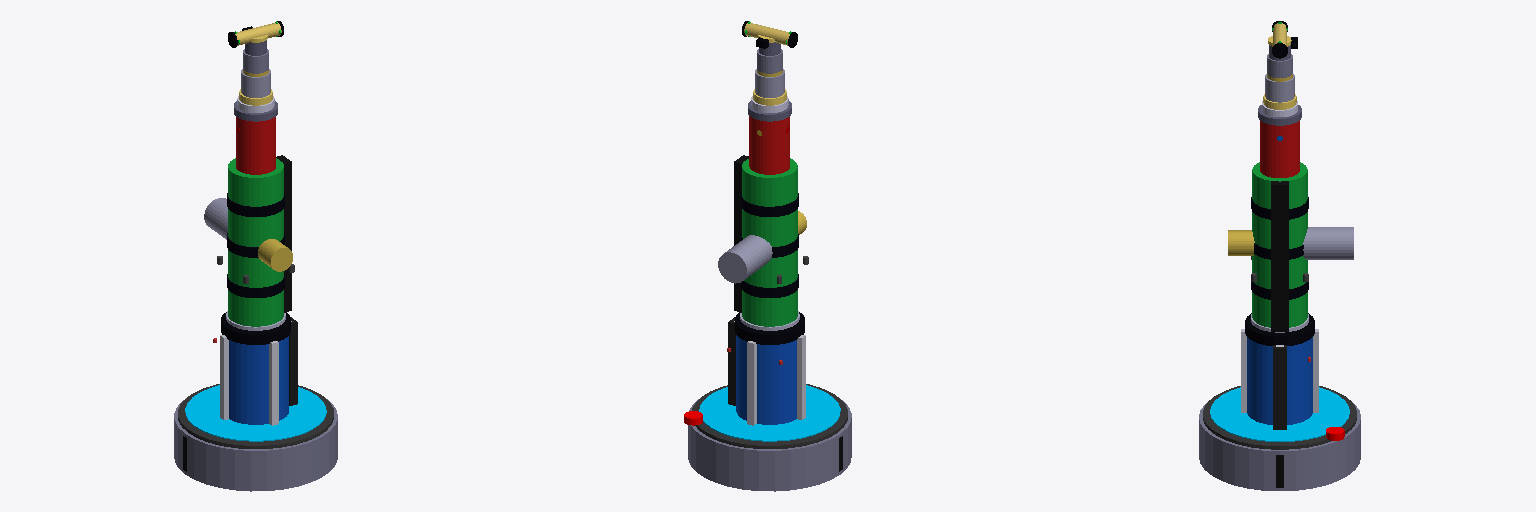
--- Facts derived from the render (not from the file) ---
3 views of the same robot in one strip: view 1: azimuth 30°, elevation 25°; view 2: azimuth 150°, elevation 25°; view 3: azimuth 270°, elevation 25° (orthographic).
Model enhanced_robot_arm with 10 links and 9 joints (5 revolute, 1 continuous, 2 prismatic, 1 fixed), rooted at base_link, posed every joint at zero.
Visible links, largest first — view 1: base_link, upper_arm_link, shoulder_link, forearm_link, wrist_roll_link; view 2: base_link, upper_arm_link, shoulder_link, forearm_link, wrist_roll_link; view 3: base_link, upper_arm_link, shoulder_link, forearm_link, wrist_roll_link.
Link boxes in pixels (x1=…): base_link: x1=174, y1=384, x2=337, y2=491; upper_arm_link: x1=204, y1=155, x2=294, y2=326; shoulder_link: x1=213, y1=311, x2=297, y2=425; forearm_link: x1=234, y1=89, x2=277, y2=174; wrist_roll_link: x1=241, y1=69, x2=270, y2=97; base_link: x1=684, y1=384, x2=851, y2=491; upper_arm_link: x1=718, y1=155, x2=808, y2=326; shoulder_link: x1=727, y1=311, x2=805, y2=425; forearm_link: x1=748, y1=89, x2=791, y2=174; wrist_roll_link: x1=755, y1=69, x2=784, y2=97; base_link: x1=1199, y1=386, x2=1360, y2=490; upper_arm_link: x1=1228, y1=162, x2=1353, y2=331; shoulder_link: x1=1241, y1=313, x2=1318, y2=429; forearm_link: x1=1258, y1=94, x2=1301, y2=177; wrist_roll_link: x1=1265, y1=74, x2=1294, y2=102.
Bounding box of the posed robot: 0.44 × 0.44 × 1.27 m (x, y, z).
Geometry: primitives only (box / cylinder / sphere), no mesh files.

The robot description file, URDF, robot "enhanced_robot_arm":
<?xml version="1.0"?>
<robot name="enhanced_robot_arm">

  <!-- Advanced Research Platform Base -->
  <link name="base_link">
    <!-- Primary base platform with integrated cooling -->
    <visual>
      <origin xyz="0 0 0.06" rpy="0 0 0"/>
      <geometry>
        <cylinder radius="0.22" length="0.12"/>
      </geometry>
      <material name="base_aerospace_titanium">
        <color rgba="0.5 0.5 0.6 1.0"/>
      </material>
    </visual>
    
    <!-- Precision-machined anti-slip surface -->
    <visual>
      <origin xyz="0 0 0.125" rpy="0 0 0"/>
      <geometry>
        <cylinder radius="0.21" length="0.01"/>
      </geometry>
      <material name="grip_diamond_plate">
        <color rgba="0.25 0.25 0.25 1.0"/>
      </material>
    </visual>
    
    <!-- High-strength mounting bolts (8-point pattern) -->
    <visual>
      <origin xyz="0.15 0 0.125" rpy="0 0 0"/>
      <geometry>
        <cylinder radius="0.01" length="0.015"/>
      </geometry>
      <material name="bolt_titanium">
        <color rgba="0.6 0.6 0.7 1.0"/>
      </material>
    </visual>
    
    <visual>
      <origin xyz="0.106 0.106 0.125" rpy="0 0 0"/>
      <geometry>
        <cylinder radius="0.01" length="0.015"/>
      </geometry>
      <material name="bolt_titanium">
        <color rgba="0.6 0.6 0.7 1.0"/>
      </material>
    </visual>
    
    <visual>
      <origin xyz="0 0.15 0.125" rpy="0 0 0"/>
      <geometry>
        <cylinder radius="0.01" length="0.015"/>
      </geometry>
      <material name="bolt_titanium">
        <color rgba="0.6 0.6 0.7 1.0"/>
      </material>
    </visual>
    
    <visual>
      <origin xyz="-0.106 0.106 0.125" rpy="0 0 0"/>
      <geometry>
        <cylinder radius="0.01" length="0.015"/>
      </geometry>
      <material name="bolt_titanium">
        <color rgba="0.6 0.6 0.7 1.0"/>
      </material>
    </visual>
    
    <visual>
      <origin xyz="-0.15 0 0.125" rpy="0 0 0"/>
      <geometry>
        <cylinder radius="0.01" length="0.015"/>
      </geometry>
      <material name="bolt_titanium">
        <color rgba="0.6 0.6 0.7 1.0"/>
      </material>
    </visual>
    
    <visual>
      <origin xyz="-0.106 -0.106 0.125" rpy="0 0 0"/>
      <geometry>
        <cylinder radius="0.01" length="0.015"/>
      </geometry>
      <material name="bolt_titanium">
        <color rgba="0.6 0.6 0.7 1.0"/>
      </material>
    </visual>
    
    <visual>
      <origin xyz="0 -0.15 0.125" rpy="0 0 0"/>
      <geometry>
        <cylinder radius="0.01" length="0.015"/>
      </geometry>
      <material name="bolt_titanium">
        <color rgba="0.6 0.6 0.7 1.0"/>
      </material>
    </visual>
    
    <visual>
      <origin xyz="0.106 -0.106 0.125" rpy="0 0 0"/>
      <geometry>
        <cylinder radius="0.01" length="0.015"/>
      </geometry>
      <material name="bolt_titanium">
        <color rgba="0.6 0.6 0.7 1.0"/>
      </material>
    </visual>
    
    <!-- Advanced LED status system -->
    <visual>
      <origin xyz="0 0 0.135" rpy="0 0 0"/>
      <geometry>
        <cylinder radius="0.19" length="0.003"/>
      </geometry>
      <material name="led_ring_active">
        <color rgba="0.0 0.8 1.0 1.0"/>
      </material>
    </visual>
    
    <!-- Cooling system vents -->
    <visual>
      <origin xyz="0.18 0 0.06" rpy="0 0 0"/>
      <geometry>
        <box size="0.08 0.02 0.1"/>
      </geometry>
      <material name="vent_graphite">
        <color rgba="0.1 0.1 0.1 1.0"/>
      </material>
    </visual>
    
    <visual>
      <origin xyz="-0.18 0 0.06" rpy="0 0 0"/>
      <geometry>
        <box size="0.08 0.02 0.1"/>
      </geometry>
      <material name="vent_graphite">
        <color rgba="0.1 0.1 0.1 1.0"/>
      </material>
    </visual>
    
    <!-- Integrated power distribution -->
    <visual>
      <origin xyz="0 0.18 0.06" rpy="0 0 0"/>
      <geometry>
        <box size="0.12 0.06 0.08"/>
      </geometry>
      <material name="power_distribution">
        <color rgba="0.2 0.2 0.3 1.0"/>
      </material>
    </visual>
    
    <!-- Emergency stop integration -->
    <visual>
      <origin xyz="0.15 0.15 0.14" rpy="0 0 0"/>
      <geometry>
        <cylinder radius="0.025" length="0.02"/>
      </geometry>
      <material name="emergency_stop">
        <color rgba="1.0 0.0 0.0 1.0"/>
      </material>
    </visual>
    
    <collision>
      <origin xyz="0 0 0.06" rpy="0 0 0"/>
      <geometry>
        <cylinder radius="0.22" length="0.12"/>
      </geometry>
    </collision>
    <inertial>
      <origin xyz="0 0 0.06" rpy="0 0 0"/>
      <mass value="15.0"/>
      <inertia ixx="0.2" ixy="0" ixz="0" iyy="0.2" iyz="0" izz="0.35"/>
    </inertial>
  </link>

  <!-- Advanced Shoulder Assembly -->
  <link name="shoulder_link">
    <!-- Primary shoulder structure -->
    <visual>
      <origin xyz="0 0 0.125" rpy="0 0 0"/>
      <geometry>
        <cylinder radius="0.09" length="0.25"/>
      </geometry>
      <material name="arm_aerospace_blue">
        <color rgba="0.1 0.35 0.75 1.0"/>
      </material>
    </visual>
    
    <!-- Advanced cooling fins -->
    <visual>
      <origin xyz="0.095 0 0.125" rpy="0 1.57 0"/>
      <geometry>
        <box size="0.25 0.02 0.02"/>
      </geometry>
      <material name="cooling_aluminum">
        <color rgba="0.8 0.8 0.85 1.0"/>
      </material>
    </visual>
    
    <visual>
      <origin xyz="-0.095 0 0.125" rpy="0 1.57 0"/>
      <geometry>
        <box size="0.25 0.02 0.02"/>
      </geometry>
      <material name="cooling_aluminum">
        <color rgba="0.8 0.8 0.85 1.0"/>
      </material>
    </visual>
    
    <visual>
      <origin xyz="0 0.095 0.125" rpy="1.57 0 0"/>
      <geometry>
        <box size="0.02 0.25 0.02"/>
      </geometry>
      <material name="cooling_aluminum">
        <color rgba="0.8 0.8 0.85 1.0"/>
      </material>
    </visual>
    
    <visual>
      <origin xyz="0 -0.095 0.125" rpy="1.57 0 0"/>
      <geometry>
        <box size="0.02 0.25 0.02"/>
      </geometry>
      <material name="cooling_aluminum">
        <color rgba="0.8 0.8 0.85 1.0"/>
      </material>
    </visual>
    
    <!-- High-precision servo motor -->
    <visual>
      <origin xyz="0 0 0.26" rpy="0 0 0"/>
      <geometry>
        <cylinder radius="0.095" length="0.03"/>
      </geometry>
      <material name="servo_housing">
        <color rgba="0.05 0.05 0.08 1.0"/>
      </material>
    </visual>
    
    <!-- Integrated torque sensor -->
    <visual>
      <origin xyz="0 0 0.285" rpy="0 0 0"/>
      <geometry>
        <cylinder radius="0.08" length="0.01"/>
      </geometry>
      <material name="torque_sensor">
        <color rgba="0.7 0.7 0.8 1.0"/>
      </material>
    </visual>
    
    <!-- Advanced cable management -->
    <visual>
      <origin xyz="0.105 0 0.125" rpy="0 0 0"/>
      <geometry>
        <box size="0.025 0.04 0.25"/>
      </geometry>
      <material name="cable_carrier_advanced">
        <color rgba="0.15 0.15 0.15 1.0"/>
      </material>
    </visual>
    
    <!-- Temperature sensors -->
    <visual>
      <origin xyz="0.08 0.08 0.2" rpy="0 0 0"/>
      <geometry>
        <cylinder radius="0.005" length="0.01"/>
      </geometry>
      <material name="temp_sensor">
        <color rgba="0.8 0.2 0.2 1.0"/>
      </material>
    </visual>
    
    <visual>
      <origin xyz="-0.08 0.08 0.2" rpy="0 0 0"/>
      <geometry>
        <cylinder radius="0.005" length="0.01"/>
      </geometry>
      <material name="temp_sensor">
        <color rgba="0.8 0.2 0.2 1.0"/>
      </material>
    </visual>
    
    <collision>
      <origin xyz="0 0 0.125" rpy="0 0 0"/>
      <geometry>
        <cylinder radius="0.09" length="0.25"/>
      </geometry>
    </collision>
    <inertial>
      <origin xyz="0 0 0.125" rpy="0 0 0"/>
      <mass value="8.5"/>
      <inertia ixx="0.08" ixy="0" ixz="0" iyy="0.08" iyz="0" izz="0.04"/>
    </inertial>
  </link>

  <!-- Extended Reach Upper Arm -->
  <link name="upper_arm_link">
    <!-- Main arm structure -->
    <visual>
      <origin xyz="0 0 0.22" rpy="0 0 0"/>
      <geometry>
        <cylinder radius="0.075" length="0.44"/>
      </geometry>
      <material name="arm_aerospace_green">
        <color rgba="0.1 0.65 0.25 1.0"/>
      </material>
    </visual>
    
    <!-- Carbon fiber reinforcement -->
    <visual>
      <origin xyz="0 0 0.1" rpy="0 0 0"/>
      <geometry>
        <cylinder radius="0.078" length="0.03"/>
      </geometry>
      <material name="carbon_fiber">
        <color rgba="0.05 0.05 0.1 1.0"/>
      </material>
    </visual>
    
    <visual>
      <origin xyz="0 0 0.22" rpy="0 0 0"/>
      <geometry>
        <cylinder radius="0.078" length="0.03"/>
      </geometry>
      <material name="carbon_fiber">
        <color rgba="0.05 0.05 0.1 1.0"/>
      </material>
    </visual>
    
    <visual>
      <origin xyz="0 0 0.34" rpy="0 0 0"/>
      <geometry>
        <cylinder radius="0.078" length="0.03"/>
      </geometry>
      <material name="carbon_fiber">
        <color rgba="0.05 0.05 0.1 1.0"/>
      </material>
    </visual>
    
    <!-- High-torque servo actuator -->
    <visual>
      <origin xyz="0 0.1 0.22" rpy="1.57 0 0"/>
      <geometry>
        <cylinder radius="0.045" length="0.2"/>
      </geometry>
      <material name="servo_titanium">
        <color rgba="0.6 0.6 0.7 1.0"/>
      </material>
    </visual>
    
    <!-- Advanced position encoder -->
    <visual>
      <origin xyz="0 -0.1 0.22" rpy="1.57 0 0"/>
      <geometry>
        <cylinder radius="0.035" length="0.08"/>
      </geometry>
      <material name="encoder_precision">
        <color rgba="0.8 0.7 0.3 1.0"/>
      </material>
    </visual>
    
    <!-- Adaptive cable carrier -->
    <visual>
      <origin xyz="0.085 0 0.22" rpy="0 0 0"/>
      <geometry>
        <box size="0.025 0.05 0.44"/>
      </geometry>
      <material name="cable_carrier_flex">
        <color rgba="0.1 0.1 0.1 1.0"/>
      </material>
    </visual>
    
    <!-- Vibration dampeners -->
    <visual>
      <origin xyz="0.07 0.07 0.15" rpy="0 0 0"/>
      <geometry>
        <cylinder radius="0.008" length="0.02"/>
      </geometry>
      <material name="dampener">
        <color rgba="0.3 0.3 0.3 1.0"/>
      </material>
    </visual>
    
    <visual>
      <origin xyz="-0.07 0.07 0.15" rpy="0 0 0"/>
      <geometry>
        <cylinder radius="0.008" length="0.02"/>
      </geometry>
      <material name="dampener">
        <color rgba="0.3 0.3 0.3 1.0"/>
      </material>
    </visual>
    
    <visual>
      <origin xyz="0.07 -0.07 0.15" rpy="0 0 0"/>
      <geometry>
        <cylinder radius="0.008" length="0.02"/>
      </geometry>
      <material name="dampener">
        <color rgba="0.3 0.3 0.3 1.0"/>
      </material>
    </visual>
    
    <visual>
      <origin xyz="-0.07 -0.07 0.15" rpy="0 0 0"/>
      <geometry>
        <cylinder radius="0.008" length="0.02"/>
      </geometry>
      <material name="dampener">
        <color rgba="0.3 0.3 0.3 1.0"/>
      </material>
    </visual>
    
    <collision>
      <origin xyz="0 0 0.22" rpy="0 0 0"/>
      <geometry>
        <cylinder radius="0.075" length="0.44"/>
      </geometry>
    </collision>
    <inertial>
      <origin xyz="0 0 0.22" rpy="0 0 0"/>
      <mass value="6.8"/>
      <inertia ixx="0.15" ixy="0" ixz="0" iyy="0.15" iyz="0" izz="0.025"/>
    </inertial>
  </link>

  <!-- Advanced Forearm Assembly -->
  <link name="forearm_link">
    <!-- Main forearm structure -->
    <visual>
      <origin xyz="0 0 0.08" rpy="0 0 0"/>
      <geometry>
        <cylinder radius="0.055" length="0.16"/>
      </geometry>
      <material name="arm_aerospace_red">
        <color rgba="0.75 0.1 0.1 1.0"/>
      </material>
    </visual>
    
    <!-- Wrist assembly housing -->
    <visual>
      <origin xyz="0 0 0.17" rpy="0 0 0"/>
      <geometry>
        <cylinder radius="0.06" length="0.02"/>
      </geometry>
      <material name="wrist_housing">
        <color rgba="0.4 0.4 0.5 1.0"/>
      </material>
    </visual>
    
    <!-- Force/torque sensor -->
    <visual>
      <origin xyz="0 0 0.19" rpy="0 0 0"/>
      <geometry>
        <cylinder radius="0.05" length="0.02"/>
      </geometry>
      <material name="ft_sensor">
        <color rgba="0.8 0.8 0.9 1.0"/>
      </material>
    </visual>
    
    <!-- Tool interface plate -->
    <visual>
      <origin xyz="0 0 0.21" rpy="0 0 0"/>
      <geometry>
        <cylinder radius="0.045" length="0.02"/>
      </geometry>
      <material name="tool_interface">
        <color rgba="0.9 0.8 0.4 1.0"/>
      </material>
    </visual>
    
    <!-- Pneumatic/hydraulic connections -->
    <visual>
      <origin xyz="0.045 0 0.12" rpy="0 1.57 0"/>
      <geometry>
        <cylinder radius="0.008" length="0.02"/>
      </geometry>
      <material name="pneumatic_blue">
        <color rgba="0.0 0.4 0.8 1.0"/>
      </material>
    </visual>
    
    <visual>
      <origin xyz="-0.045 0 0.12" rpy="0 1.57 0"/>
      <geometry>
        <cylinder radius="0.008" length="0.02"/>
      </geometry>
      <material name="pneumatic_red">
        <color rgba="0.8 0.0 0.0 1.0"/>
      </material>
    </visual>
    
    <visual>
      <origin xyz="0 0.045 0.12" rpy="1.57 0 0"/>
      <geometry>
        <cylinder radius="0.008" length="0.02"/>
      </geometry>
      <material name="hydraulic_gold">
        <color rgba="0.8 0.7 0.2 1.0"/>
      </material>
    </visual>
    
    <collision>
      <origin xyz="0 0 0.08" rpy="0 0 0"/>
      <geometry>
        <cylinder radius="0.055" length="0.16"/>
      </geometry>
    </collision>
    <inertial>
      <origin xyz="0 0 0.08" rpy="0 0 0"/>
      <mass value="3.5"/>
      <inertia ixx="0.008" ixy="0" ixz="0" iyy="0.008" iyz="0" izz="0.006"/>
    </inertial>
  </link>

  <!-- 6-DOF Wrist Assembly -->
  
  <!-- Wrist Roll Joint -->
  <link name="wrist_roll_link">
    <visual>
      <origin xyz="0 0 0.03" rpy="0 0 0"/>
      <geometry>
        <cylinder radius="0.04" length="0.06"/>
      </geometry>
      <material name="wrist_titanium">
        <color rgba="0.6 0.6 0.7 1.0"/>
      </material>
    </visual>
    
    <!-- Integrated encoder -->
    <visual>
      <origin xyz="0 0 0.065" rpy="0 0 0"/>
      <geometry>
        <cylinder radius="0.035" length="0.01"/>
      </geometry>
      <material name="encoder_ring">
        <color rgba="0.8 0.7 0.3 1.0"/>
      </material>
    </visual>
    
    <collision>
      <origin xyz="0 0 0.03" rpy="0 0 0"/>
      <geometry>
        <cylinder radius="0.04" length="0.06"/>
      </geometry>
    </collision>
    <inertial>
      <origin xyz="0 0 0.03" rpy="0 0 0"/>
      <mass value="1.8"/>
      <inertia ixx="0.003" ixy="0" ixz="0" iyy="0.003" iyz="0" izz="0.002"/>
    </inertial>
  </link>

  <!-- Wrist Pitch Joint -->
  <link name="wrist_pitch_link">
    <visual>
      <origin xyz="0 0 0.025" rpy="0 0 0"/>
      <geometry>
        <cylinder radius="0.035" length="0.05"/>
      </geometry>
      <material name="wrist_pitch">
        <color rgba="0.5 0.5 0.6 1.0"/>
      </material>
    </visual>
    
    <collision>
      <origin xyz="0 0 0.025" rpy="0 0 0"/>
      <geometry>
        <cylinder radius="0.035" length="0.05"/>
      </geometry>
    </collision>
    <inertial>
      <origin xyz="0 0 0.025" rpy="0 0 0"/>
      <mass value="1.2"/>
      <inertia ixx="0.002" ixy="0" ixz="0" iyy="0.002" iyz="0" izz="0.001"/>
    </inertial>
  </link>

  <!-- Wrist Yaw Joint -->
  <link name="wrist_yaw_link">
    <visual>
      <origin xyz="0 0 0.02" rpy="0 0 0"/>
      <geometry>
        <cylinder radius="0.03" length="0.04"/>
      </geometry>
      <material name="wrist_yaw">
        <color rgba="0.4 0.4 0.5 1.0"/>
      </material>
    </visual>
    
    <!-- Tool mounting interface -->
    <visual>
      <origin xyz="0 0 0.045" rpy="0 0 0"/>
      <geometry>
        <cylinder radius="0.032" length="0.01"/>
      </geometry>
      <material name="mount_interface">
        <color rgba="0.9 0.8 0.4 1.0"/>
      </material>
    </visual>
    
    <collision>
      <origin xyz="0 0 0.02" rpy="0 0 0"/>
      <geometry>
        <cylinder radius="0.03" length="0.04"/>
      </geometry>
    </collision>
    <inertial>
      <origin xyz="0 0 0.02" rpy="0 0 0"/>
      <mass value="0.8"/>
      <inertia ixx="0.001" ixy="0" ixz="0" iyy="0.001" iyz="0" izz="0.001"/>
    </inertial>
  </link>

  <!-- Advanced Smart Gripper System -->
  
  <!-- Smart Gripper Finger 1 -->
  <link name="gripper_finger_1">
    <!-- Advanced finger structure -->
    <visual>
      <origin xyz="0.035 0 0" rpy="0 1.57 0"/>
      <geometry>
        <cylinder radius="0.018" length="0.07"/>
      </geometry>
      <material name="gripper_aerospace">
        <color rgba="0.85 0.75 0.4 1.0"/>
      </material>
    </visual>
    
    <!-- Adaptive grip surface -->
    <visual>
      <origin xyz="0.072 0 0" rpy="0 1.57 0"/>
      <geometry>
        <cylinder radius="0.022" length="0.006"/>
      </geometry>
      <material name="adaptive_grip">
        <color rgba="0.05 0.05 0.08 1.0"/>
      </material>
    </visual>
    
    <!-- Integrated force/torque sensor -->
    <visual>
      <origin xyz="0.067 0 0" rpy="0 1.57 0"/>
      <geometry>
        <cylinder radius="0.015" length="0.01"/>
      </geometry>
      <material name="ft_sensor_crystal">
        <color rgba="0.8 0.9 1.0 1.0"/>
      </material>
    </visual>
    
    <!-- Tactile sensor array -->
    <visual>
      <origin xyz="0.063 0.018 0" rpy="0 1.57 0"/>
      <geometry>
        <cylinder radius="0.005" length="0.003"/>
      </geometry>
      <material name="tactile_sensor">
        <color rgba="0.0 0.8 0.2 1.0"/>
      </material>
    </visual>
    
    <visual>
      <origin xyz="0.063 -0.018 0" rpy="0 1.57 0"/>
      <geometry>
        <cylinder radius="0.005" length="0.003"/>
      </geometry>
      <material name="tactile_sensor">
        <color rgba="0.0 0.8 0.2 1.0"/>
      </material>
    </visual>
    
    <visual>
      <origin xyz="0.063 0 0.018" rpy="0 1.57 0"/>
      <geometry>
        <cylinder radius="0.005" length="0.003"/>
      </geometry>
      <material name="tactile_sensor">
        <color rgba="0.0 0.8 0.2 1.0"/>
      </material>
    </visual>
    
    <visual>
      <origin xyz="0.063 0 -0.018" rpy="0 1.57 0"/>
      <geometry>
        <cylinder radius="0.005" length="0.003"/>
      </geometry>
      <material name="tactile_sensor">
        <color rgba="0.0 0.8 0.2 1.0"/>
      </material>
    </visual>
    
    <!-- Proximity sensors -->
    <visual>
      <origin xyz="0.058 0.015 0" rpy="0 1.57 0"/>
      <geometry>
        <cylinder radius="0.003" length="0.002"/>
      </geometry>
      <material name="proximity_led">
        <color rgba="1.0 0.0 0.2 1.0"/>
      </material>
    </visual>
    
    <visual>
      <origin xyz="0.058 -0.015 0" rpy="0 1.57 0"/>
      <geometry>
        <cylinder radius="0.003" length="0.002"/>
      </geometry>
      <material name="proximity_led">
        <color rgba="1.0 0.0 0.2 1.0"/>
      </material>
    </visual>
    
    <!-- Advanced actuator -->
    <visual>
      <origin xyz="0.015 0 0" rpy="0 1.57 0"/>
      <geometry>
        <cylinder radius="0.012" length="0.03"/>
      </geometry>
      <material name="actuator_precision">
        <color rgba="0.8 0.8 0.9 1.0"/>
      </material>
    </visual>
    
    <collision>
      <origin xyz="0.035 0 0" rpy="0 1.57 0"/>
      <geometry>
        <cylinder radius="0.018" length="0.07"/>
      </geometry>
    </collision>
    <inertial>
      <origin xyz="0.035 0 0" rpy="0 0 0"/>
      <mass value="0.6"/>
      <inertia ixx="0.0008" ixy="0" ixz="0" iyy="0.0008" iyz="0" izz="0.0004"/>
    </inertial>
  </link>

  <!-- Smart Gripper Finger 2 -->
  <link name="gripper_finger_2">
    <!-- Advanced finger structure -->
    <visual>
      <origin xyz="-0.035 0 0" rpy="0 1.57 0"/>
      <geometry>
        <cylinder radius="0.018" length="0.07"/>
      </geometry>
      <material name="gripper_aerospace">
        <color rgba="0.85 0.75 0.4 1.0"/>
      </material>
    </visual>
    
    <!-- Adaptive grip surface -->
    <visual>
      <origin xyz="-0.072 0 0" rpy="0 1.57 0"/>
      <geometry>
        <cylinder radius="0.022" length="0.006"/>
      </geometry>
      <material name="adaptive_grip">
        <color rgba="0.05 0.05 0.08 1.0"/>
      </material>
    </visual>
    
    <!-- Integrated force/torque sensor -->
    <visual>
      <origin xyz="-0.067 0 0" rpy="0 1.57 0"/>
      <geometry>
        <cylinder radius="0.015" length="0.01"/>
      </geometry>
      <material name="ft_sensor_crystal">
        <color rgba="0.8 0.9 1.0 1.0"/>
      </material>
    </visual>
    
    <!-- Tactile sensor array -->
    <visual>
      <origin xyz="-0.063 0.018 0" rpy="0 1.57 0"/>
      <geometry>
        <cylinder radius="0.005" length="0.003"/>
      </geometry>
      <material name="tactile_sensor">
        <color rgba="0.0 0.8 0.2 1.0"/>
      </material>
    </visual>
    
    <visual>
      <origin xyz="-0.063 -0.018 0" rpy="0 1.57 0"/>
      <geometry>
        <cylinder radius="0.005" length="0.003"/>
      </geometry>
      <material name="tactile_sensor">
        <color rgba="0.0 0.8 0.2 1.0"/>
      </material>
    </visual>
    
    <visual>
      <origin xyz="-0.063 0 0.018" rpy="0 1.57 0"/>
      <geometry>
        <cylinder radius="0.005" length="0.003"/>
      </geometry>
      <material name="tactile_sensor">
        <color rgba="0.0 0.8 0.2 1.0"/>
      </material>
    </visual>
    
    <visual>
      <origin xyz="-0.063 0 -0.018" rpy="0 1.57 0"/>
      <geometry>
        <cylinder radius="0.005" length="0.003"/>
      </geometry>
      <material name="tactile_sensor">
        <color rgba="0.0 0.8 0.2 1.0"/>
      </material>
    </visual>
    
    <!-- Proximity sensors -->
    <visual>
      <origin xyz="-0.058 0.015 0" rpy="0 1.57 0"/>
      <geometry>
        <cylinder radius="0.003" length="0.002"/>
      </geometry>
      <material name="proximity_led">
        <color rgba="1.0 0.0 0.2 1.0"/>
      </material>
    </visual>
    
    <visual>
      <origin xyz="-0.058 -0.015 0" rpy="0 1.57 0"/>
      <geometry>
        <cylinder radius="0.003" length="0.002"/>
      </geometry>
      <material name="proximity_led">
        <color rgba="1.0 0.0 0.2 1.0"/>
      </material>
    </visual>
    
    <!-- Advanced actuator -->
    <visual>
      <origin xyz="-0.015 0 0" rpy="0 1.57 0"/>
      <geometry>
        <cylinder radius="0.012" length="0.03"/>
      </geometry>
      <material name="actuator_precision">
        <color rgba="0.8 0.8 0.9 1.0"/>
      </material>
    </visual>
    
    <collision>
      <origin xyz="-0.035 0 0" rpy="0 1.57 0"/>
      <geometry>
        <cylinder radius="0.018" length="0.07"/>
      </geometry>
    </collision>
    <inertial>
      <origin xyz="-0.035 0 0" rpy="0 0 0"/>
      <mass value="0.6"/>
      <inertia ixx="0.0008" ixy="0" ixz="0" iyy="0.0008" iyz="0" izz="0.0004"/>
    </inertial>
  </link>

  <!-- Advanced Sensor Suite -->
  
  <!-- Wrist-mounted camera -->
  <link name="wrist_camera">
    <visual>
      <origin xyz="0 0 0.01" rpy="0 0 0"/>
      <geometry>
        <box size="0.03 0.02 0.02"/>
      </geometry>
      <material name="camera_housing">
        <color rgba="0.05 0.05 0.08 1.0"/>
      </material>
    </visual>
    
    <!-- Camera lens -->
    <visual>
      <origin xyz="0.016 0 0.01" rpy="0 1.57 0"/>
      <geometry>
        <cylinder radius="0.006" length="0.002"/>
      </geometry>
      <material name="camera_lens">
        <color rgba="0.1 0.1 0.15 1.0"/>
      </material>
    </visual>
    
    <collision>
      <origin xyz="0 0 0.01" rpy="0 0 0"/>
      <geometry>
        <box size="0.03 0.02 0.02"/>
      </geometry>
    </collision>
    <inertial>
      <origin xyz="0 0 0.01" rpy="0 0 0"/>
      <mass value="0.1"/>
      <inertia ixx="0.00005" ixy="0" ixz="0" iyy="0.00008" iyz="0" izz="0.00005"/>
    </inertial>
  </link>

  <!-- JOINTS SECTION -->

  <!-- Base Joint - High-Precision Research Grade -->
  <joint name="base_joint" type="revolute">
    <parent link="base_link"/>
    <child link="shoulder_link"/>
    <origin xyz="0 0 0.13" rpy="0 0 0"/>
    <axis xyz="0 0 1"/>
    <limit lower="-6.28318" upper="6.28318" effort="400" velocity="4.0"/>
    <dynamics damping="0.8" friction="0.4"/>
  </joint>

  <!-- Shoulder Joint - High-Torque Research Grade -->
  <joint name="shoulder_joint" type="revolute">
    <parent link="shoulder_link"/>
    <child link="upper_arm_link"/>
    <origin xyz="0 0 0.29" rpy="0 0 0"/>
    <axis xyz="0 1 0"/>
    <limit lower="-2.8" upper="2.8" effort="300" velocity="3.5"/>
    <dynamics damping="0.8" friction="0.4"/>
  </joint>

  <!-- Elbow Joint - Extended Range Research Grade -->
  <joint name="elbow_joint" type="revolute">
    <parent link="upper_arm_link"/>
    <child link="forearm_link"/>
    <origin xyz="0 0 0.44" rpy="0 0 0"/>
    <axis xyz="0 1 0"/>
    <limit lower="-3.2" upper="3.2" effort="200" velocity="4.0"/>
    <dynamics damping="0.6" friction="0.3"/>
  </joint>

  <!-- Wrist Roll Joint - Continuous Research Grade -->
  <joint name="wrist_roll_joint" type="continuous">
    <parent link="forearm_link"/>
    <child link="wrist_roll_link"/>
    <origin xyz="0 0 0.22" rpy="0 0 0"/>
    <axis xyz="0 0 1"/>
    <dynamics damping="0.3" friction="0.15"/>
  </joint>

  <!-- Wrist Pitch Joint - High-Speed Research Grade -->
  <joint name="wrist_pitch_joint" type="revolute">
    <parent link="wrist_roll_link"/>
    <child link="wrist_pitch_link"/>
    <origin xyz="0 0 0.07" rpy="0 0 0"/>
    <axis xyz="0 1 0"/>
    <limit lower="-2.2" upper="2.2" effort="120" velocity="5.0"/>
    <dynamics damping="0.3" friction="0.15"/>
  </joint>

  <!-- Wrist Yaw Joint - Ultra-Precision Research Grade -->
  <joint name="wrist_yaw_joint" type="revolute">
    <parent link="wrist_pitch_link"/>
    <child link="wrist_yaw_link"/>
    <origin xyz="0 0 0.05" rpy="0 0 0"/>
    <axis xyz="1 0 0"/>
    <limit lower="-2.2" upper="2.2" effort="80" velocity="5.0"/>
    <dynamics damping="0.2" friction="0.1"/>
  </joint>

  <!-- Advanced Gripper Joints -->
  <joint name="gripper_joint_1" type="prismatic">
    <parent link="wrist_yaw_link"/>
    <child link="gripper_finger_1"/>
    <origin xyz="0 0 0.05" rpy="0 0 0"/>
    <axis xyz="1 0 0"/>
    <limit lower="0" upper="0.1" effort="100" velocity="1.5"/>
    <dynamics damping="0.3" friction="0.15"/>
  </joint>

  <joint name="gripper_joint_2" type="prismatic">
    <parent link="wrist_yaw_link"/>
    <child link="gripper_finger_2"/>
    <origin xyz="0 0 0.05" rpy="0 0 0"/>
    <axis xyz="1 0 0"/>
    <limit lower="-0.1" upper="0" effort="100" velocity="1.5"/>
    <dynamics damping="0.3" friction="0.15"/>
  </joint>

  <!-- Sensor Mounts -->
  <joint name="wrist_camera_joint" type="fixed">
    <parent link="wrist_yaw_link"/>
    <child link="wrist_camera"/>
    <origin xyz="0 0.04 0.03" rpy="0 0 0"/>
  </joint>

</robot>
